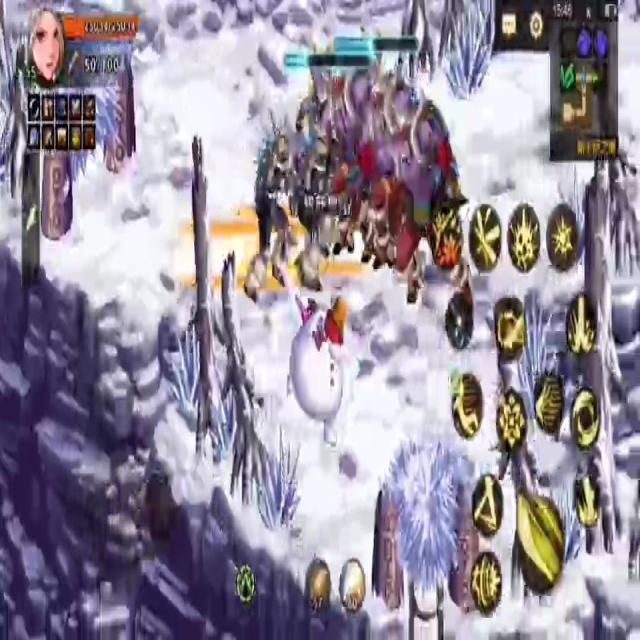player: (288, 287, 349, 448)
